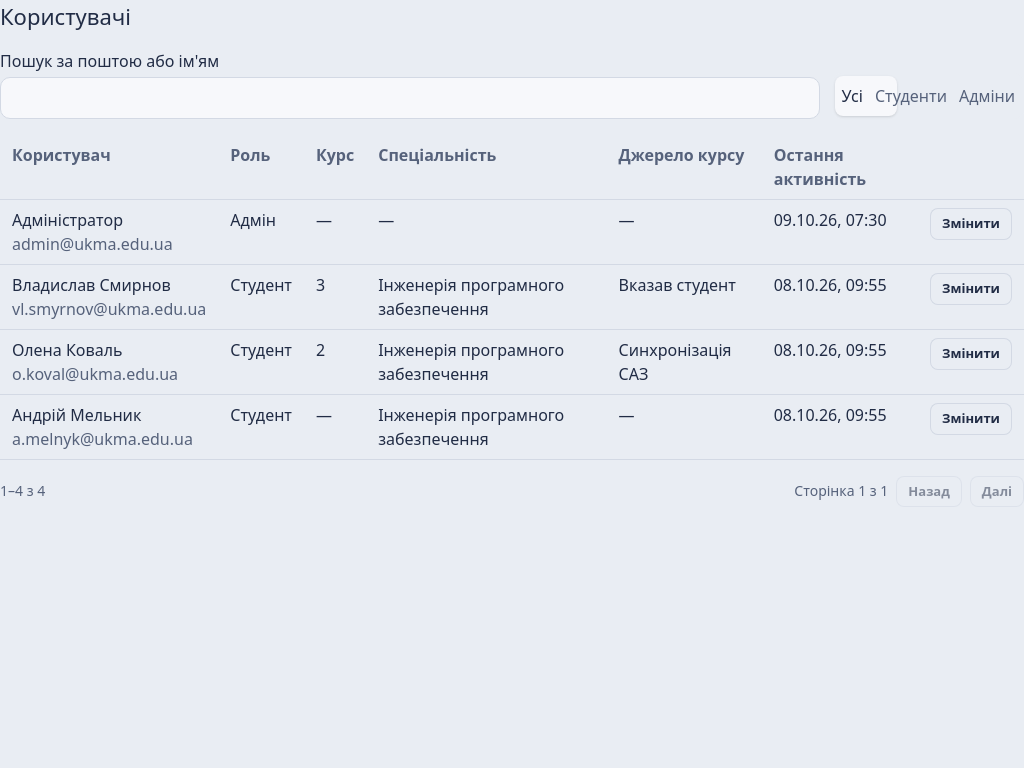
Test: UserEditor › зміна курсу оновлює рядок і ставить джерело «Адмін»
This screenshot has width=1024, height=768.
Click the button "Змінити" in the row of "Владислав Смирнов" at (971, 289), box [930,273,1012,304]
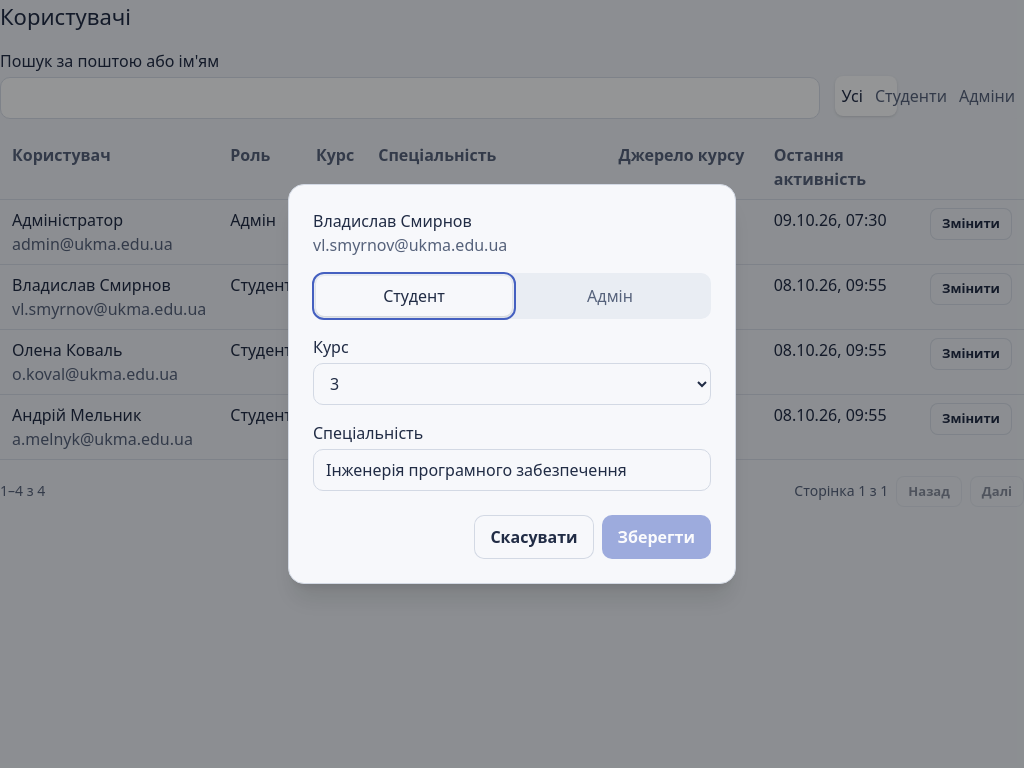
Select "4" in the dropdown labelled "Курс" at (512, 384), box [313,363,711,405]
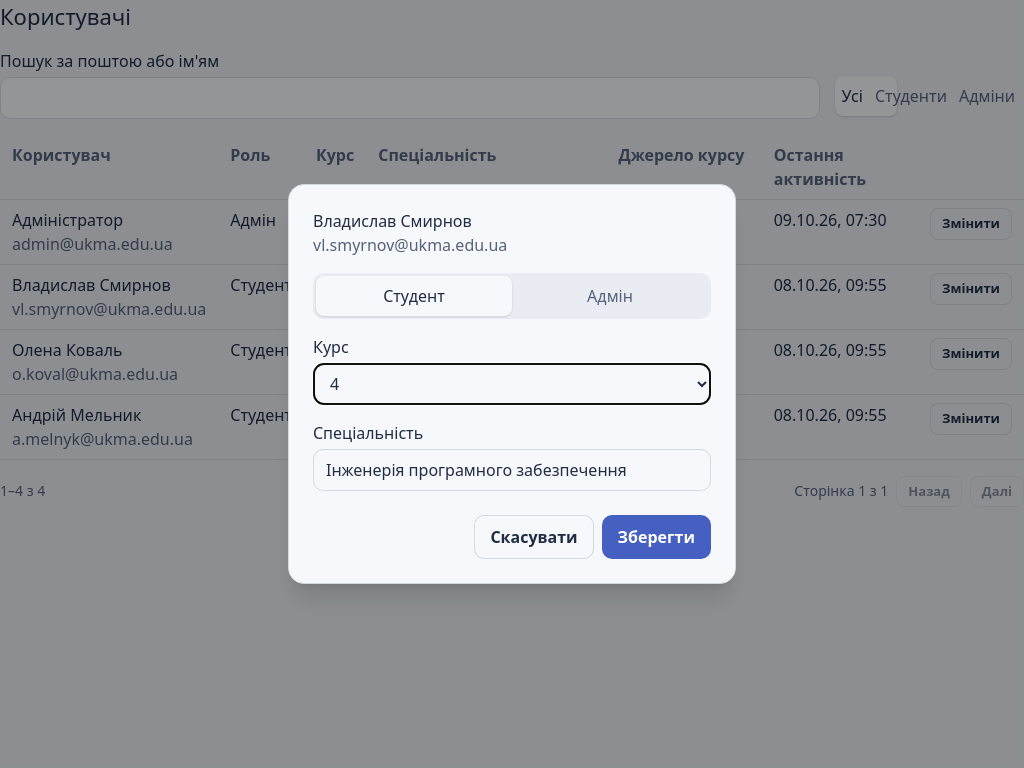
Click the button "Зберегти" at (656, 537), box [602,515,711,559]
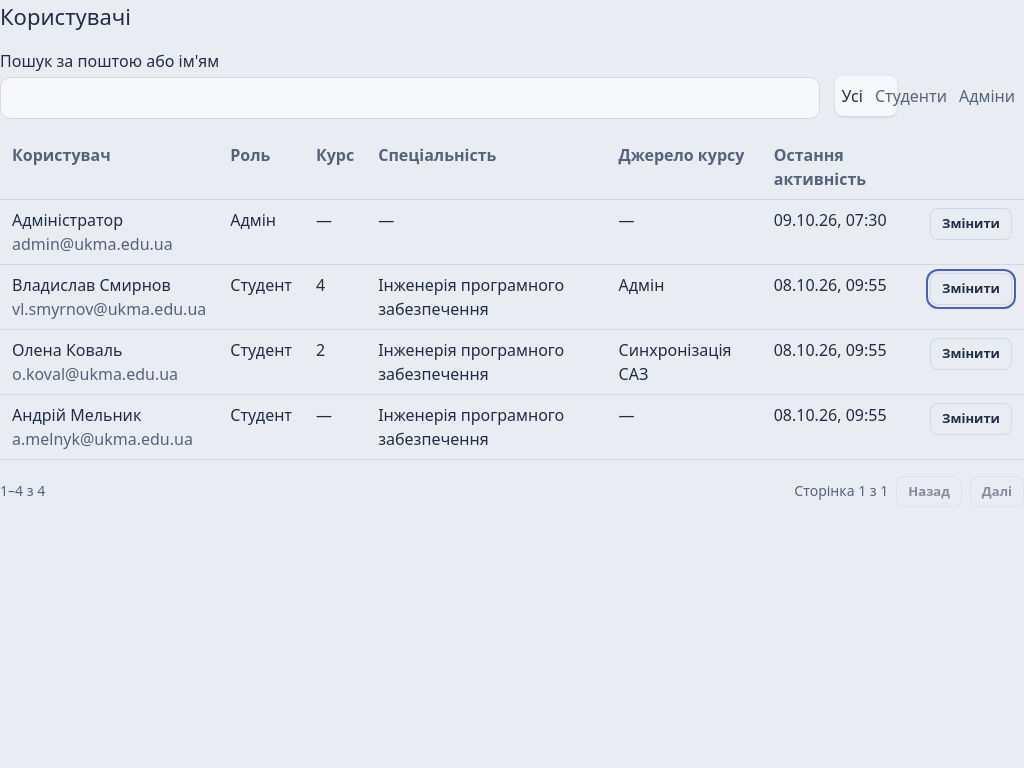
Expected: the dialog is gone
Expected: the text "4" is shown, [304,264,366,330]
Expected: the text "Адмін" in the row of "Владислав Смирнов" is shown, [619,274,664,296]
